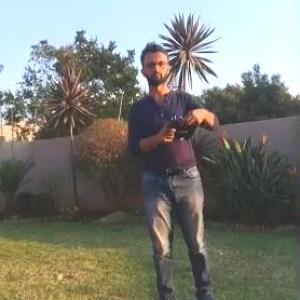follow: (124, 34, 230, 299)
